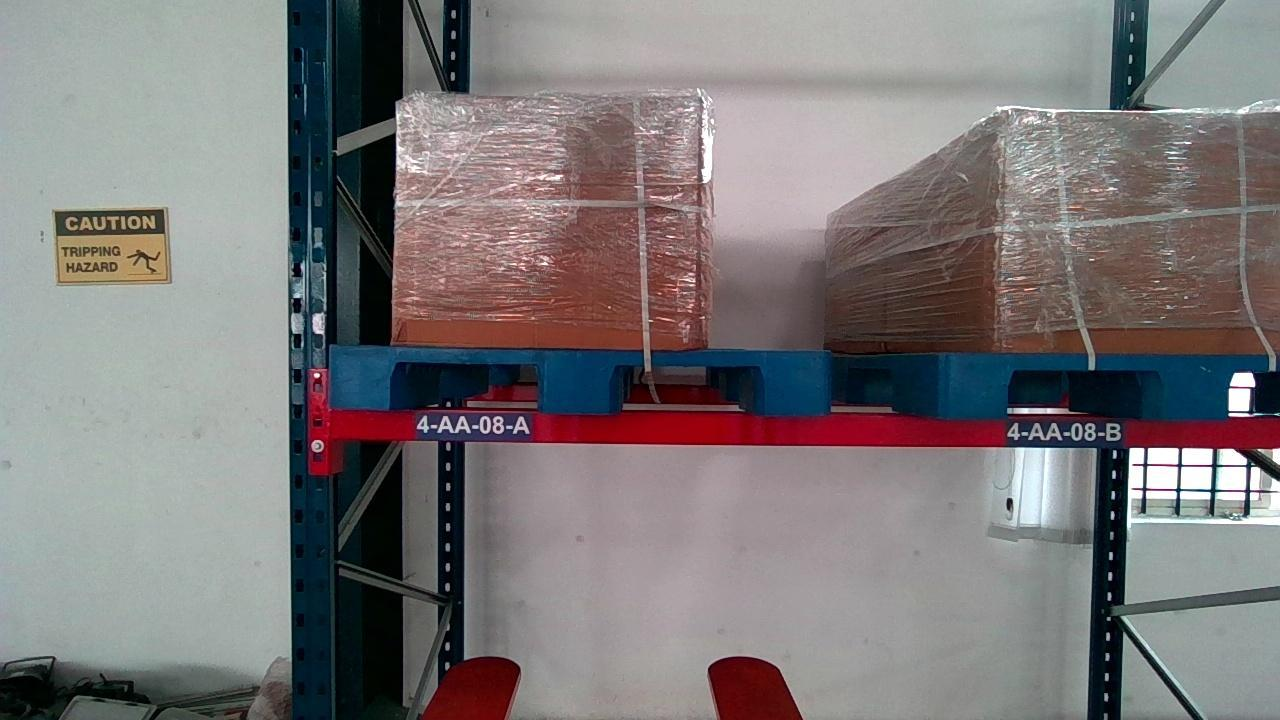h_rack: (321, 410, 1280, 448)
small_pallet: (324, 344, 826, 415), (968, 351, 1280, 418)
